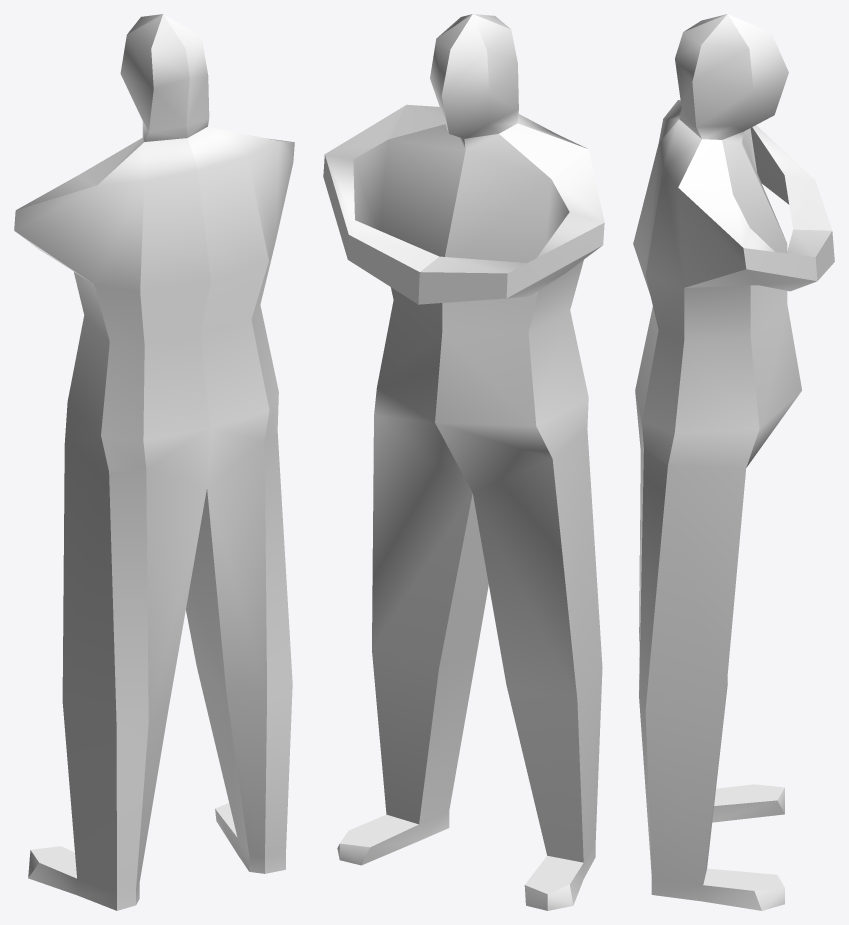
Rendered from ManCollider.obj.
3 views of the same model, side by side, from view 1: azimuth 30°, elevation 25°; view 2: azimuth 150°, elevation 25°; view 3: azimuth 270°, elevation 25° (orthographic).
Parts seen in each view (by area): view 1: ManCollider:Mesh; view 2: ManCollider:Mesh; view 3: ManCollider:Mesh.
Part boxes in pixels (x1,y1,x2,y2): ManCollider:Mesh: (14,14,294,910); ManCollider:Mesh: (323,14,604,910); ManCollider:Mesh: (633,14,834,910).
Bounding box in the file's own units: 0.6291 × 1.83 × 0.3976.
